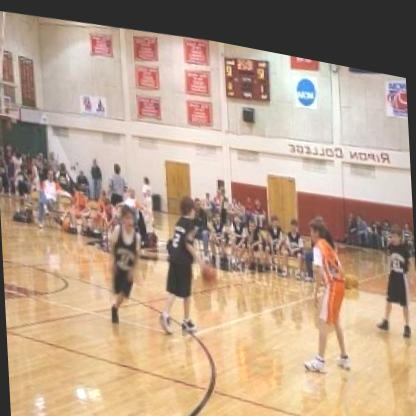basketball: (198, 253, 221, 278)
